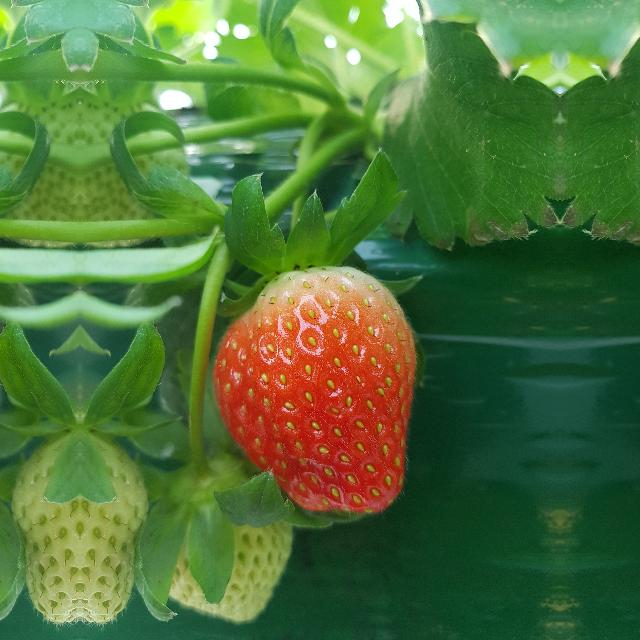Health_100: (212, 265, 416, 513)
Health_25: (142, 460, 298, 620), (80, 421, 154, 619), (6, 421, 80, 619)
